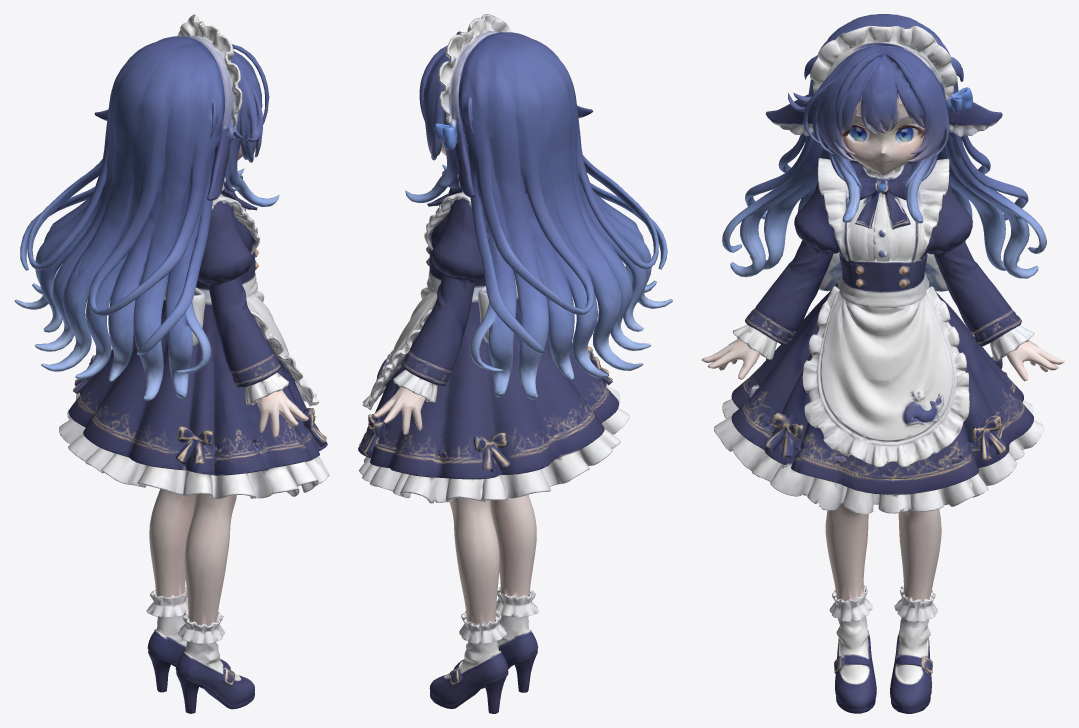
The model's file is whale_body.glb.
3 views of the same model, side by side, from view 1: azimuth 30°, elevation 25°; view 2: azimuth 150°, elevation 25°; view 3: azimuth 270°, elevation 25° (orthographic).
Visible parts, largest first — view 1: tripo_node_4c4a9e9d-4afb-4042-a36e-eebcae7f9214; view 2: tripo_node_4c4a9e9d-4afb-4042-a36e-eebcae7f9214; view 3: tripo_node_4c4a9e9d-4afb-4042-a36e-eebcae7f9214.
Boxes of the visible parts, bbox=[...] form: tripo_node_4c4a9e9d-4afb-4042-a36e-eebcae7f9214: bbox=[14, 14, 329, 713]; tripo_node_4c4a9e9d-4afb-4042-a36e-eebcae7f9214: bbox=[358, 14, 672, 713]; tripo_node_4c4a9e9d-4afb-4042-a36e-eebcae7f9214: bbox=[701, 14, 1064, 713].
Bounding box in the file's own units: 0.4086 × 0.9798 × 0.478.
Materials: 1 (1 with a texture image).
